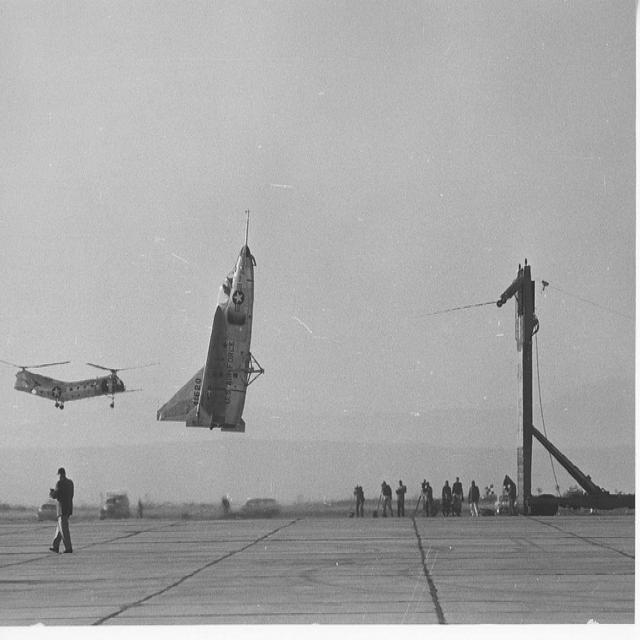Vehicle: (100, 490, 129, 519)
